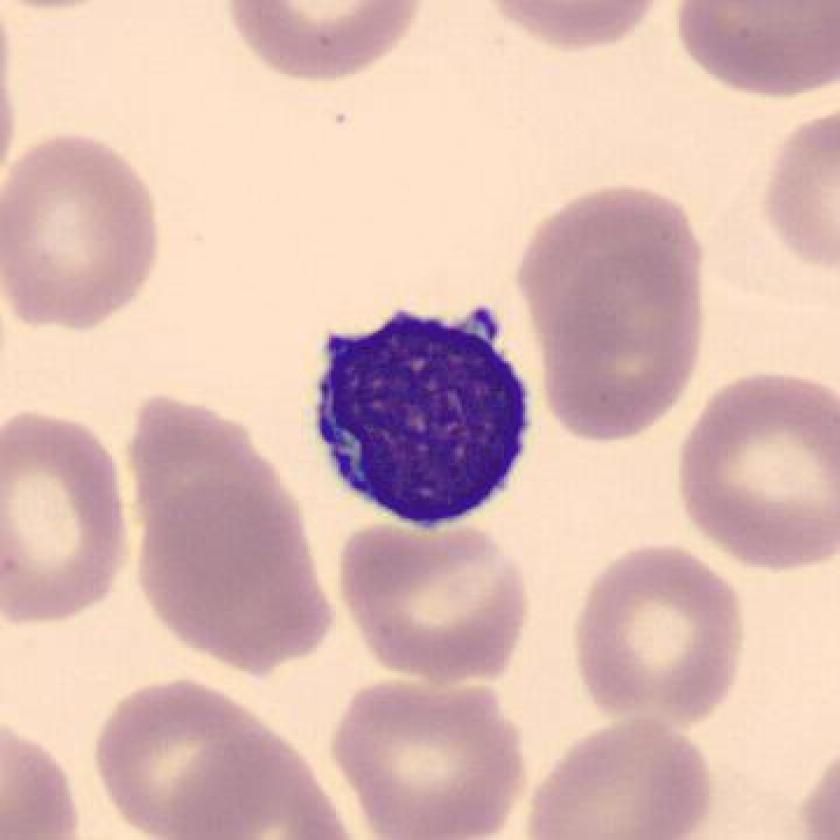lymphocyte: (288, 288, 547, 535)
